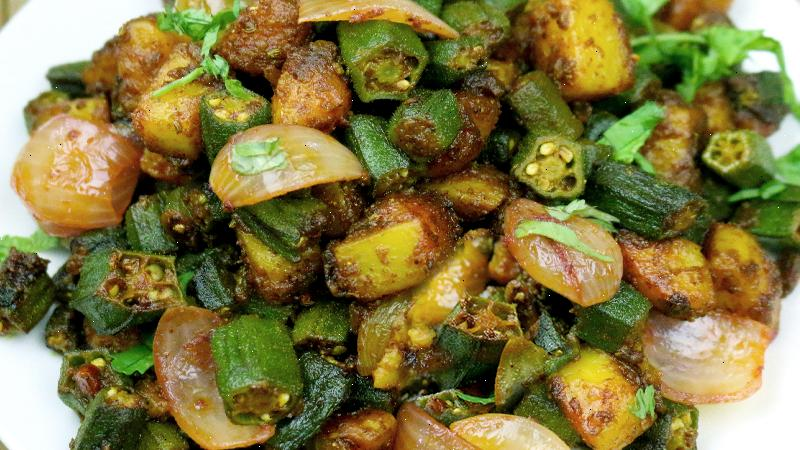bhindi: (84, 18, 773, 449)
